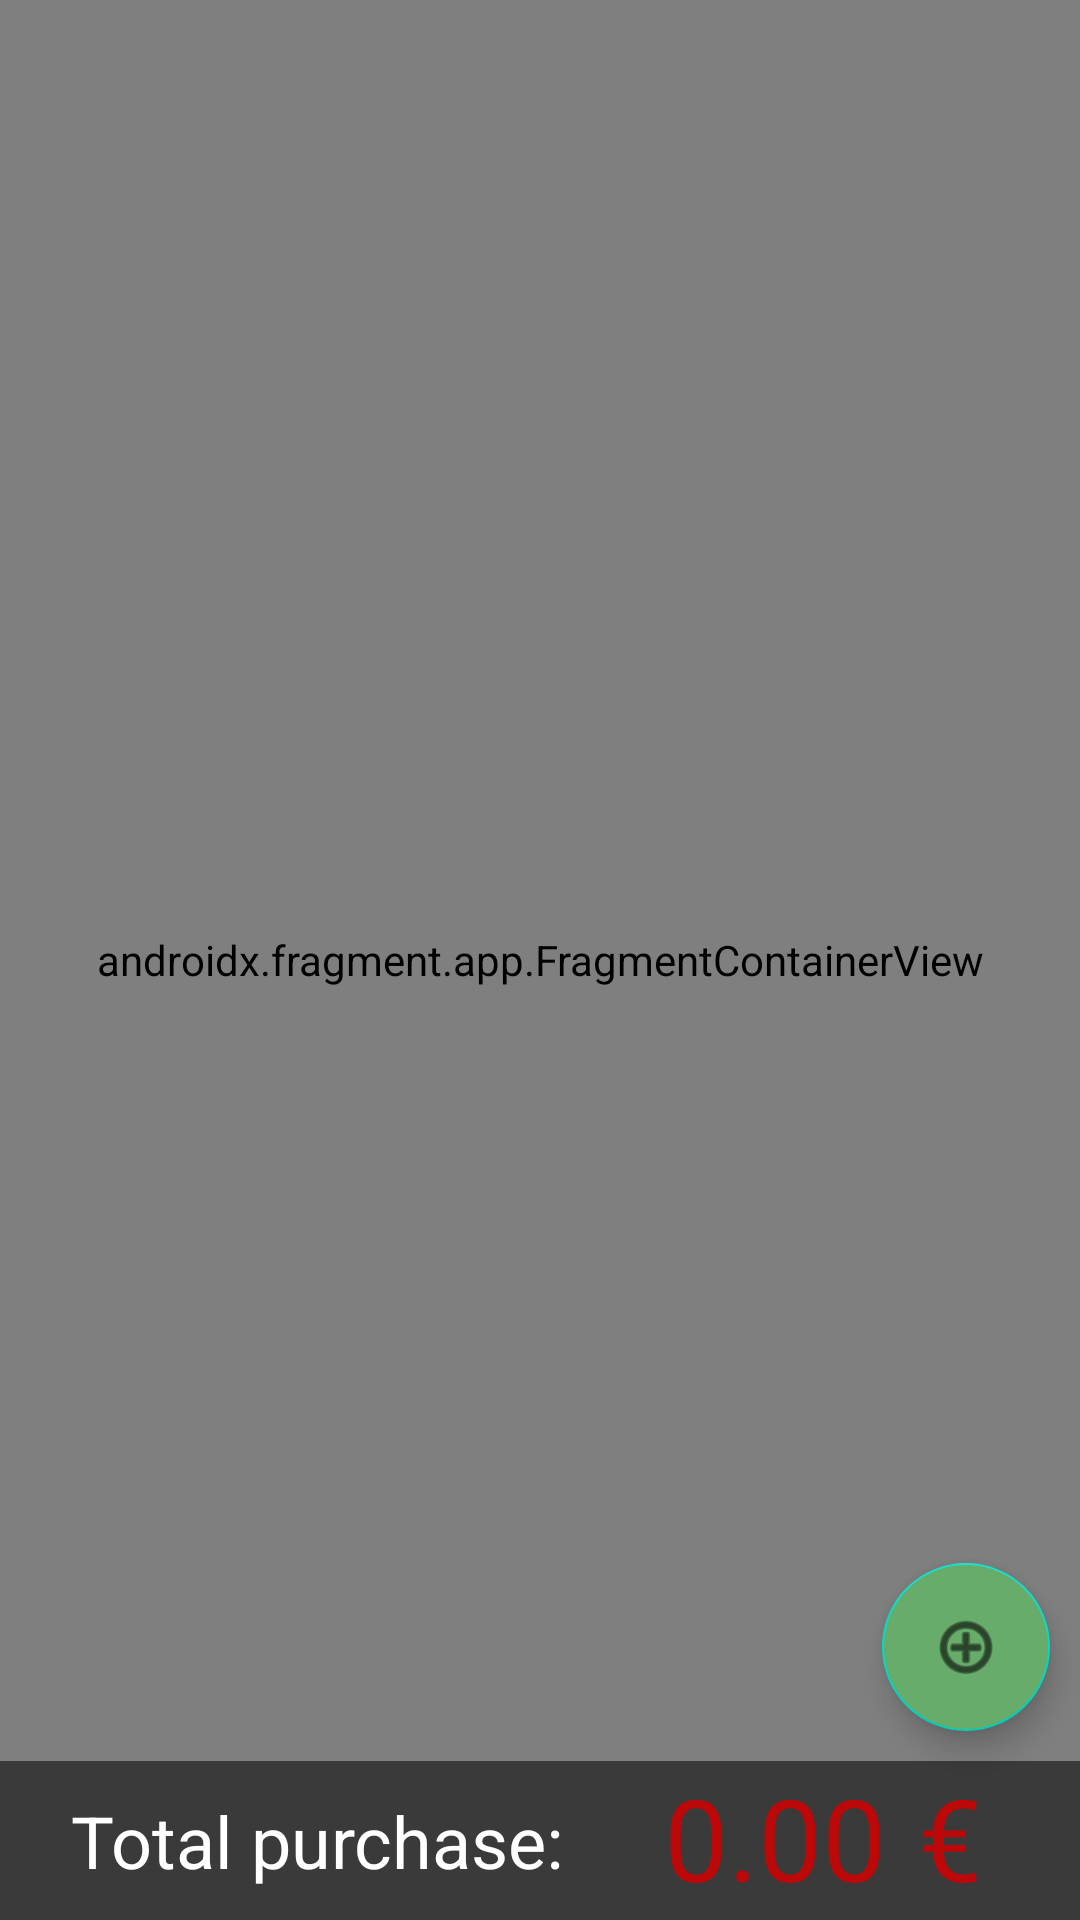

Locate icon controls on the screen. Image size 1080x1920, boxes as (x1,y1,x2,y2).
add: (882,1563,1050,1731)
